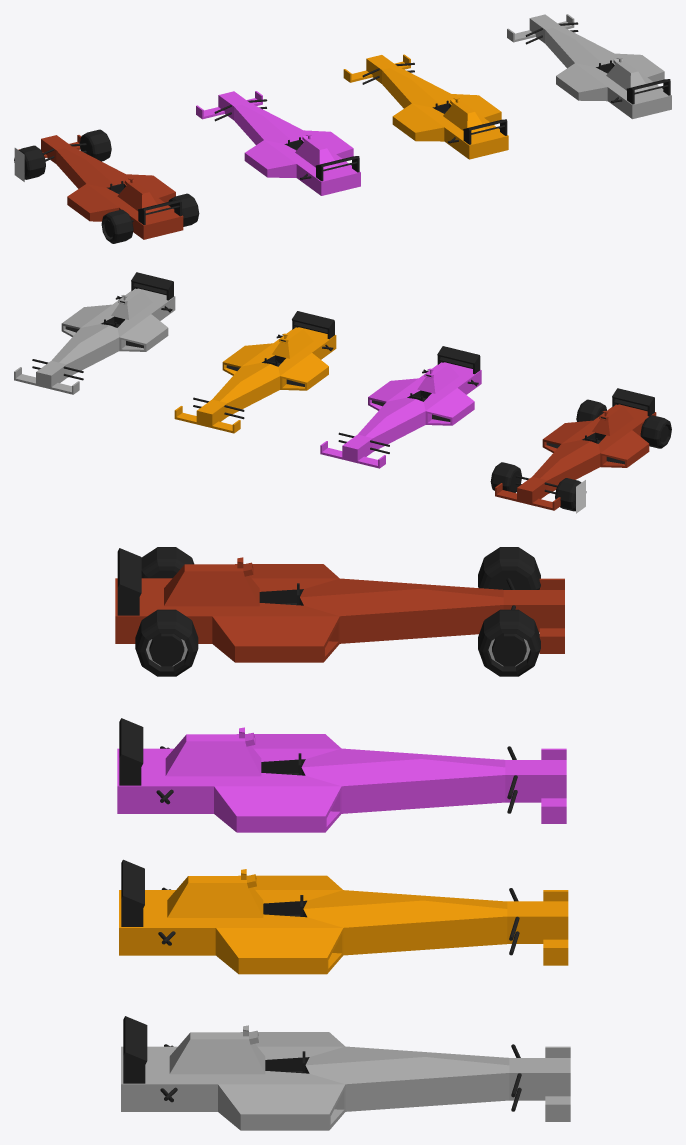
File: low-poly-f1-car.gltf
The picture shows the model from 3 angles, top to bottom: view 1: azimuth 30°, elevation 25°; view 2: azimuth 150°, elevation 25°; view 3: azimuth 270°, elevation 25°; orthographic projection. The views are drawn at different scales.
Parts seen in each view (by area): view 1: orange-chassis, pink-chassis, gray-chassis, red-chassis, back-left-tire, front-right-tire, front-left-tire, back-right-tire; view 2: orange-chassis, pink-chassis, gray-chassis, red-chassis, back-left-tire, front-right-tire, front-left-tire, back-right-tire; view 3: orange-chassis, pink-chassis, gray-chassis, red-chassis, back-right-tire, front-right-tire, front-left-tire, back-left-tire.
Part boxes in pixels (box(x1,y1,x2,y2)): orange-chassis: box(343, 54, 508, 159); pink-chassis: box(196, 91, 360, 195); gray-chassis: box(507, 14, 671, 119); red-chassis: box(18, 135, 183, 239); back-left-tire: box(101, 209, 133, 243); front-right-tire: box(79, 129, 111, 161); front-left-tire: box(14, 145, 45, 179); back-right-tire: box(168, 193, 199, 226); orange-chassis: box(174, 311, 336, 433); pink-chassis: box(320, 346, 481, 468); gray-chassis: box(14, 272, 175, 394); red-chassis: box(495, 388, 656, 510); back-left-tire: box(640, 415, 671, 448); front-right-tire: box(490, 462, 521, 492); front-left-tire: box(555, 478, 586, 511); back-right-tire: box(576, 399, 606, 421); orange-chassis: box(119, 859, 568, 974); pink-chassis: box(117, 718, 566, 832); gray-chassis: box(121, 1016, 570, 1130); red-chassis: box(115, 548, 564, 662); back-right-tire: box(135, 609, 198, 676); front-right-tire: box(478, 609, 540, 676); front-left-tire: box(478, 547, 540, 589); back-left-tire: box(141, 547, 194, 578).
Size of the model in its own units: 21.34 by 1.43 by 7.45.
Materials: 1 (1 with a texture image).
